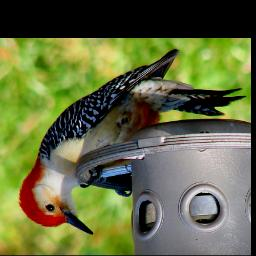Woodpecker: (19, 47, 246, 235)
